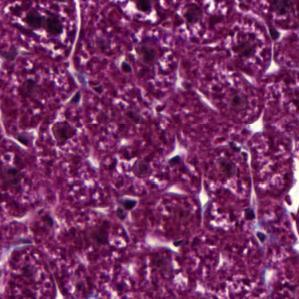inflammation: (5, 0, 67, 47), (46, 117, 79, 148), (118, 0, 160, 24), (236, 203, 261, 228), (122, 195, 143, 213)
